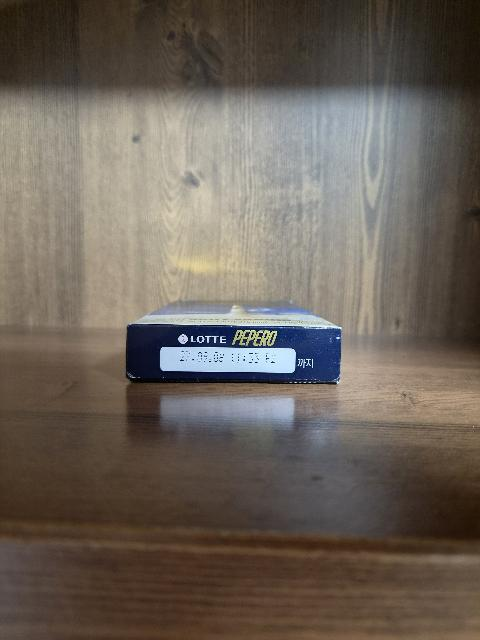pepero: (126, 299, 343, 385)
